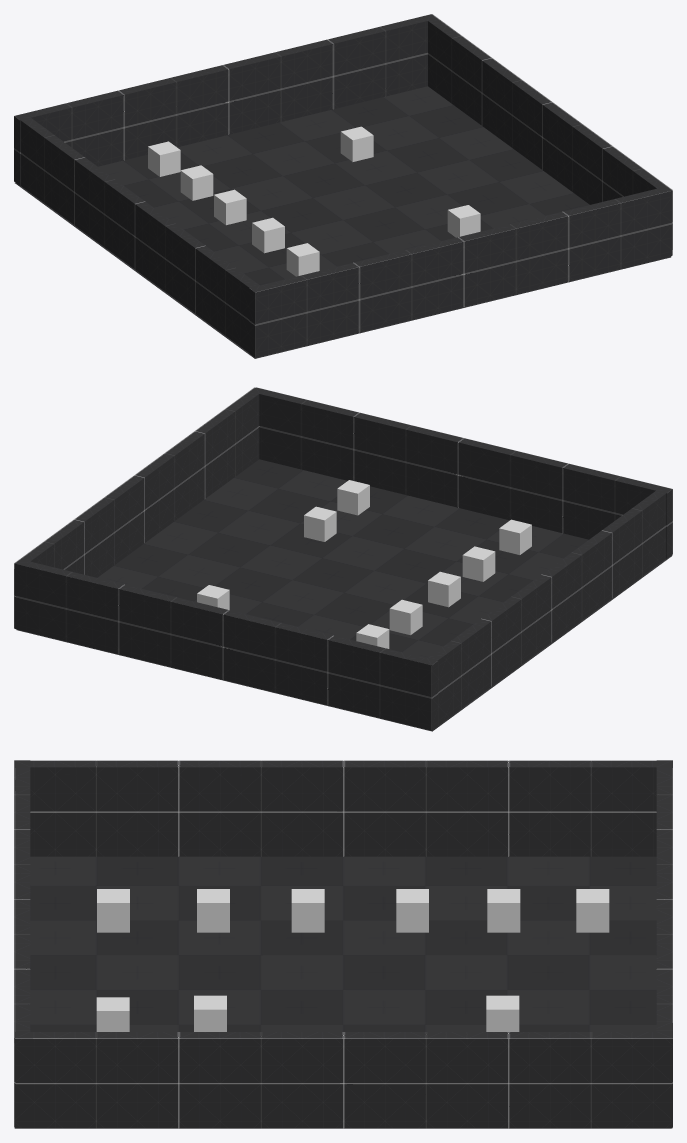
File: StoryTest.glb
3 renders of one model, top to bottom at view 1: azimuth 30°, elevation 25°; view 2: azimuth 150°, elevation 25°; view 3: azimuth 270°, elevation 25°, orthographic. The views are drawn at different scales.
Parts seen in each view (by area): view 1: Walls, Floor, SpawnSurvivor, SpawnFakeEnd2, SpawnFather, SpawnMother, SpawnIA, SpawnGirl, SpawnFakeEnd1; view 2: Walls, Floor, SpawnMother, SpawnGirl, SpawnBoy, SpawnFather, SpawnFakeEnd1, SpawnPencil, SpawnSurvivor, SpawnFakeEnd2; view 3: Walls, Floor, SpawnFather, SpawnSurvivor, SpawnIA, SpawnBoy, SpawnGirl, SpawnMother, SpawnFakeEnd2, SpawnFakeEnd1, SpawnPencil.
Part boxes in pixels (x1=…): Walls: x1=14, y1=14, x2=672, y2=357; Floor: x1=15, y1=86, x2=670, y2=358; SpawnSurvivor: x1=180, y1=165, x2=213, y2=200; SpawnFakeEnd2: x1=340, y1=126, x2=373, y2=161; SpawnFather: x1=252, y1=217, x2=284, y2=253; SpawnMother: x1=214, y1=189, x2=246, y2=225; SpawnIA: x1=148, y1=141, x2=180, y2=176; SpawnGirl: x1=286, y1=243, x2=319, y2=276; SpawnFakeEnd1: x1=447, y1=205, x2=480, y2=237; Walls: x1=14, y1=387, x2=672, y2=730; Floor: x1=16, y1=459, x2=672, y2=731; SpawnMother: x1=389, y1=599, x2=422, y2=635; SpawnGirl: x1=462, y1=546, x2=495, y2=581; SpawnBoy: x1=499, y1=519, x2=531, y2=554; SpawnFather: x1=428, y1=571, x2=460, y2=607; SpawnFakeEnd1: x1=304, y1=506, x2=336, y2=541; SpawnPencil: x1=337, y1=480, x2=369, y2=515; SpawnSurvivor: x1=356, y1=624, x2=389, y2=648; SpawnFakeEnd2: x1=197, y1=585, x2=229, y2=609; Walls: x1=14, y1=760, x2=672, y2=1128; Floor: x1=14, y1=856, x2=671, y2=1128; SpawnFather: x1=291, y1=889, x2=324, y2=932; SpawnSurvivor: x1=487, y1=889, x2=520, y2=932; SpawnIA: x1=576, y1=889, x2=609, y2=932; SpawnBoy: x1=97, y1=889, x2=129, y2=932; SpawnGirl: x1=197, y1=889, x2=229, y2=932; SpawnMother: x1=396, y1=889, x2=428, y2=932; SpawnFakeEnd2: x1=486, y1=995, x2=519, y2=1031; SpawnFakeEnd1: x1=194, y1=995, x2=226, y2=1031; SpawnPencil: x1=96, y1=997, x2=129, y2=1031.
Bounding box in the file's own units: 40.16 × 6.11 × 40.11.
11 materials, 2 textured.
